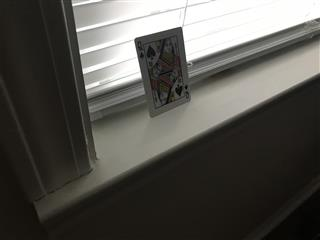QueenOfSpades: (133, 25, 192, 118)
